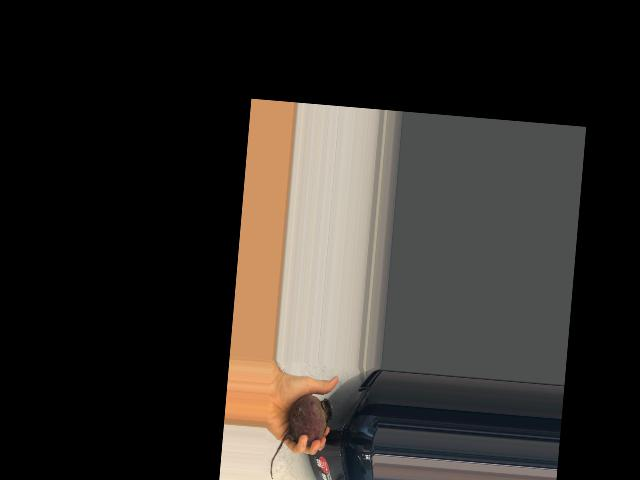beet: (269, 392, 333, 480)
